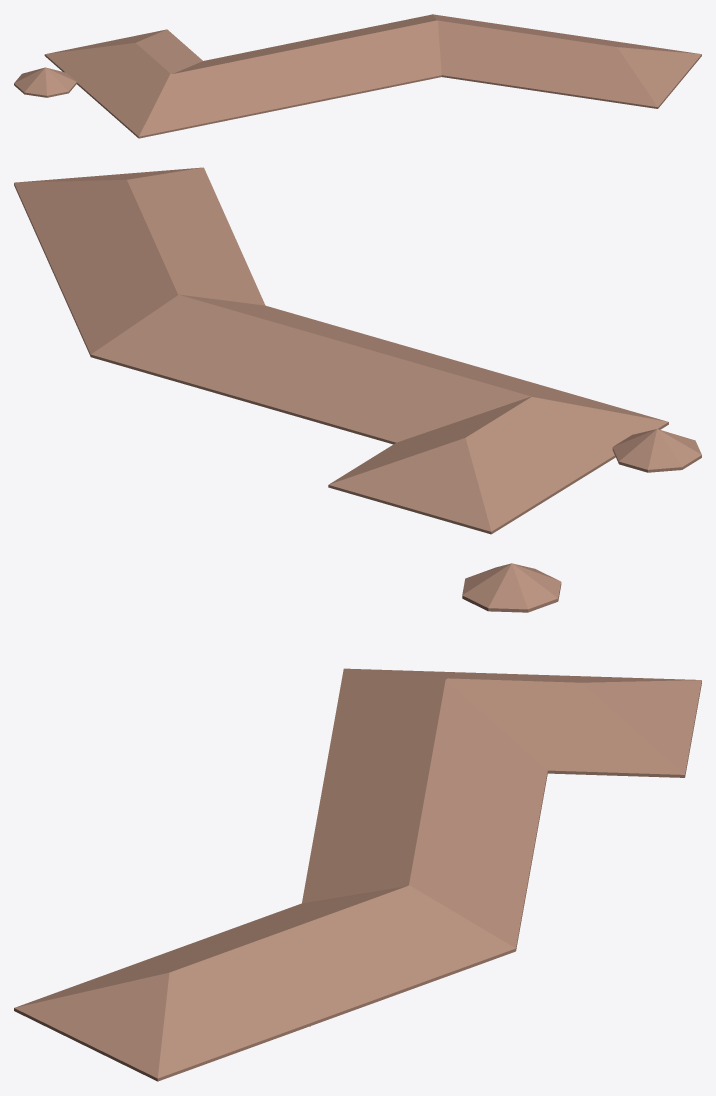
File: revit_nivel_6.glb
3 renders of one model, top to bottom at view 1: azimuth 30°, elevation 25°; view 2: azimuth 150°, elevation 25°; view 3: azimuth 270°, elevation 25°, orthographic. The views are drawn at different scales.
Parts seen in each view (by area): view 1: Revit_CUBIERTA; view 2: Revit_CUBIERTA; view 3: Revit_CUBIERTA.
Part boxes in pixels (<box>): Revit_CUBIERTA: <box>14,14,701,138</box>; Revit_CUBIERTA: <box>14,167,701,534</box>; Revit_CUBIERTA: <box>14,563,701,1081</box>.
Size of the model in its own units: 65.99 by 5.13 by 41.22.
